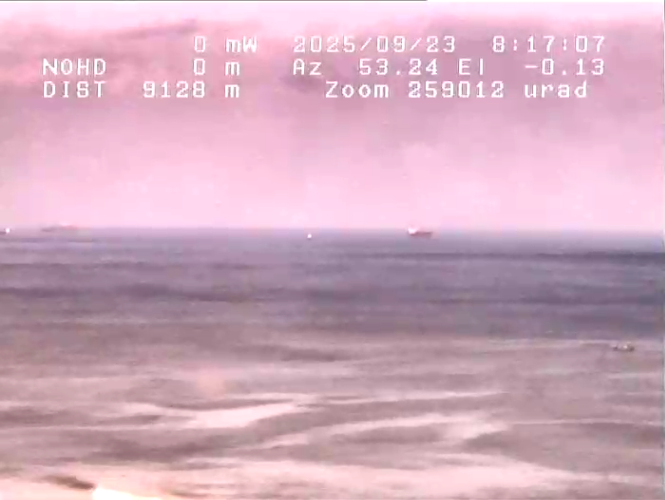CARGO_SHIPS: (34, 221, 82, 238)
TANKER: (396, 221, 436, 244)
